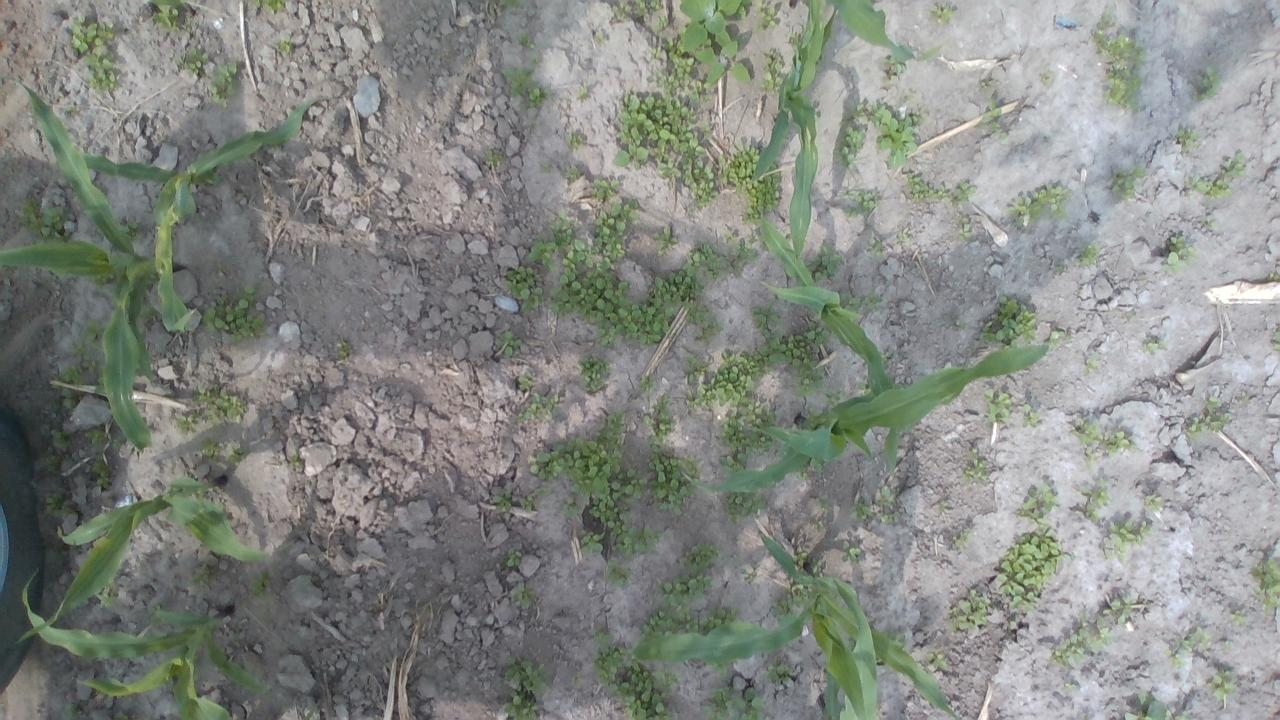Maize: (0, 74, 187, 454), (620, 535, 968, 720), (72, 98, 316, 336), (697, 343, 1049, 492), (16, 474, 288, 646), (22, 568, 322, 720), (750, 213, 900, 479), (747, 0, 819, 260), (789, 0, 953, 61)
Weeds: (548, 239, 634, 328), (611, 92, 706, 168), (530, 436, 626, 498), (996, 525, 1060, 615), (718, 143, 782, 226), (686, 350, 767, 411), (868, 101, 930, 168), (646, 443, 700, 518), (203, 283, 268, 344), (678, 0, 752, 51), (610, 669, 679, 720), (1050, 613, 1112, 669), (978, 296, 1038, 352), (717, 401, 775, 456), (613, 300, 675, 348), (594, 198, 640, 262), (1008, 183, 1070, 230), (758, 320, 814, 370), (647, 38, 694, 92), (17, 197, 70, 244), (1122, 689, 1196, 720), (694, 44, 751, 84), (588, 481, 630, 535), (192, 383, 245, 425), (1102, 518, 1152, 562), (645, 269, 704, 306), (656, 573, 714, 610), (1091, 28, 1146, 66), (680, 156, 720, 208), (502, 656, 550, 698), (593, 644, 640, 686), (504, 264, 545, 312), (68, 16, 114, 56), (613, 523, 662, 560), (1250, 556, 1280, 615), (682, 240, 726, 280), (82, 49, 122, 92), (948, 590, 990, 630), (1104, 68, 1142, 112), (642, 393, 675, 443), (771, 582, 812, 622), (208, 62, 242, 108), (1022, 482, 1059, 524), (1162, 234, 1198, 276), (804, 243, 843, 281), (727, 490, 768, 525), (679, 539, 721, 573), (834, 126, 866, 170), (641, 606, 678, 644), (1081, 477, 1111, 522), (905, 171, 947, 202), (1110, 164, 1145, 200), (150, 0, 188, 33), (1188, 173, 1232, 201), (518, 394, 560, 423), (578, 355, 610, 393), (548, 208, 578, 248), (528, 234, 558, 273), (983, 387, 1012, 426), (758, 49, 783, 94), (701, 608, 740, 636), (734, 688, 768, 720), (762, 655, 798, 685), (1194, 66, 1224, 102), (502, 692, 540, 720), (701, 686, 732, 720), (500, 66, 534, 96), (1176, 626, 1212, 652), (1206, 396, 1232, 432), (1072, 418, 1104, 447), (177, 48, 210, 76), (796, 364, 823, 398), (1207, 670, 1236, 701), (652, 224, 679, 257), (80, 318, 106, 352), (1104, 431, 1138, 457), (89, 453, 114, 488), (602, 560, 632, 589), (54, 362, 85, 390), (681, 299, 710, 328), (754, 1, 778, 34), (520, 84, 548, 112), (246, 570, 272, 600), (752, 300, 782, 326), (676, 606, 702, 636), (882, 54, 908, 84), (625, 467, 648, 500), (980, 98, 1001, 132), (733, 236, 759, 263), (496, 331, 524, 356), (589, 180, 620, 202), (46, 491, 72, 517), (849, 496, 874, 523), (1110, 596, 1134, 624), (580, 528, 605, 554), (963, 458, 989, 483), (951, 182, 977, 206), (807, 320, 831, 346), (1222, 153, 1246, 179), (596, 412, 624, 434), (1174, 128, 1202, 150), (119, 218, 144, 242), (718, 452, 748, 472), (512, 584, 536, 609), (1078, 241, 1102, 266), (1020, 402, 1042, 429), (696, 321, 724, 342), (200, 436, 223, 461), (931, 3, 956, 26), (558, 496, 584, 518), (632, 0, 662, 19), (88, 270, 116, 290), (856, 189, 880, 212), (1184, 416, 1205, 442), (874, 485, 898, 507), (1096, 8, 1120, 30), (82, 426, 108, 446), (586, 628, 614, 646), (840, 539, 861, 563), (192, 563, 214, 585), (493, 490, 514, 513), (926, 649, 949, 670), (841, 291, 862, 314), (94, 364, 109, 396), (690, 80, 710, 104), (1084, 445, 1103, 470), (658, 159, 681, 179), (1083, 352, 1101, 377), (223, 444, 244, 465), (863, 237, 884, 258), (40, 454, 62, 474), (957, 216, 973, 243), (864, 288, 882, 312), (177, 414, 198, 434), (596, 328, 617, 348), (1044, 329, 1066, 348), (61, 388, 79, 411), (1141, 336, 1161, 356), (148, 603, 167, 624), (50, 428, 72, 446), (847, 100, 865, 122), (951, 531, 974, 548), (724, 256, 743, 276), (504, 548, 524, 567), (738, 566, 758, 585), (1144, 494, 1164, 512), (485, 150, 504, 168), (516, 32, 535, 50), (896, 227, 914, 246), (610, 4, 631, 20), (1165, 649, 1183, 667), (790, 546, 806, 566), (808, 558, 824, 578), (338, 341, 352, 363), (566, 133, 584, 150), (825, 387, 842, 405), (516, 373, 533, 391), (808, 455, 824, 474), (638, 374, 654, 393), (711, 660, 730, 676), (264, 0, 287, 13), (100, 593, 118, 609), (1230, 610, 1246, 627), (278, 35, 293, 53), (82, 356, 98, 372), (566, 166, 582, 182), (880, 510, 901, 522), (288, 450, 302, 468), (1203, 214, 1218, 230), (64, 704, 81, 718), (884, 630, 901, 644), (879, 350, 896, 364), (1040, 70, 1054, 87), (818, 492, 830, 511), (655, 15, 670, 30), (494, 0, 521, 8), (574, 87, 590, 100), (843, 206, 859, 219), (520, 495, 533, 511), (1060, 682, 1076, 695), (64, 102, 81, 114), (539, 161, 554, 174), (70, 344, 86, 356), (790, 32, 801, 49), (184, 17, 194, 35), (796, 466, 808, 481), (140, 306, 156, 317), (938, 501, 951, 514), (978, 79, 991, 92), (858, 381, 872, 393), (953, 319, 967, 331), (231, 626, 243, 640), (594, 30, 606, 44), (814, 519, 826, 532), (1221, 640, 1232, 654), (1272, 332, 1280, 351), (1265, 272, 1280, 282), (1241, 391, 1251, 405), (724, 231, 736, 242), (966, 448, 978, 458), (904, 91, 916, 101), (118, 712, 132, 720), (112, 438, 121, 450), (530, 56, 540, 66), (217, 261, 227, 270), (1128, 311, 1138, 320), (252, 0, 262, 8), (1056, 264, 1064, 274), (528, 121, 538, 129), (1000, 133, 1010, 140), (1066, 334, 1074, 342), (571, 676, 578, 684)
